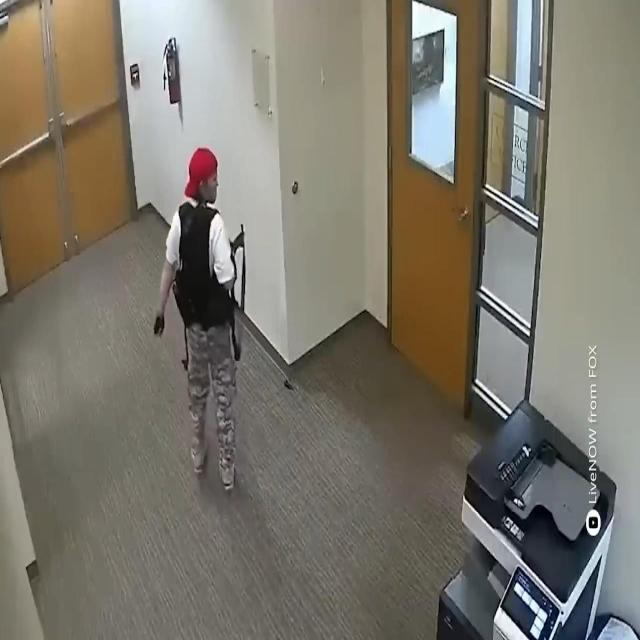pistol: (230, 202, 252, 360)
